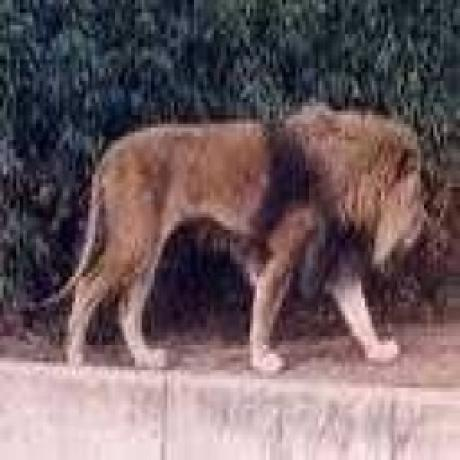Lion: (30, 106, 432, 376)
